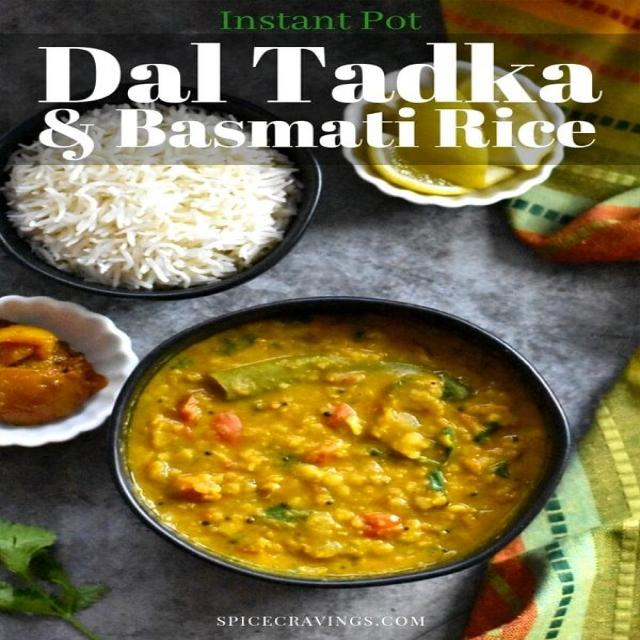dal: (144, 315, 553, 582)
rice: (7, 100, 289, 290)
